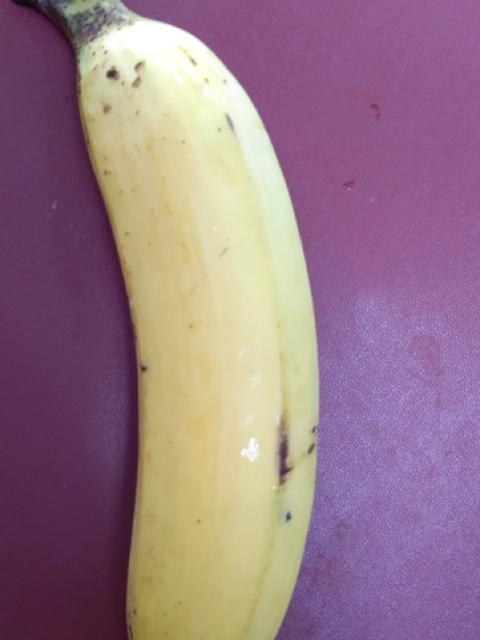freshripe: (41, 20, 357, 639)
